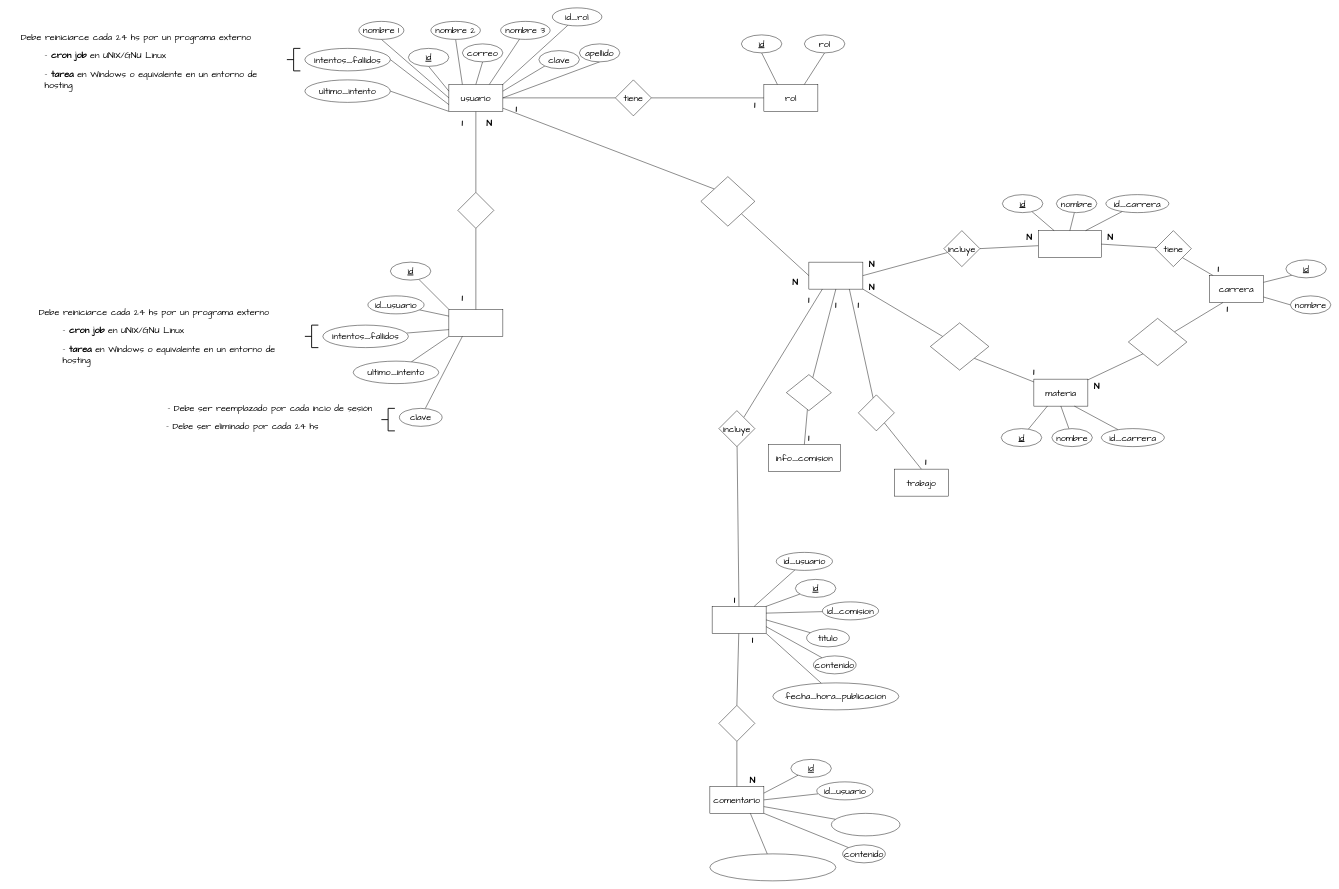
Some shapes in this 1339 by 889 pixel diagram are drawn without their labels. Each missing label, with the box of its shape:
asigna: (858, 394, 894, 431)
asignada: (930, 322, 989, 370)
comision: (808, 262, 863, 289)
contiene: (786, 374, 831, 411)
cuatrimestre: (1038, 230, 1101, 258)
fecha_hora_comentario: (709, 853, 836, 881)
genera: (457, 192, 494, 228)
id_panel_clase: (831, 813, 900, 836)
inscripto: (700, 176, 755, 226)
OTP: (448, 309, 503, 336)
panel_clase: (712, 606, 766, 633)
pertenece: (1128, 318, 1187, 366)
recibe: (718, 705, 755, 741)
